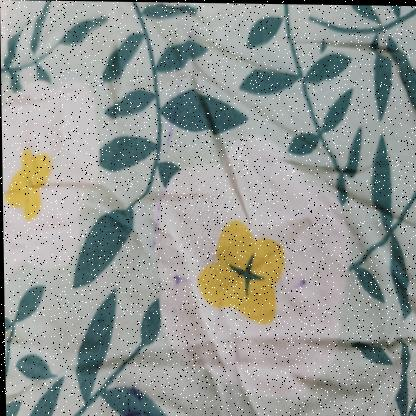spot: (162, 115, 182, 154), (121, 400, 153, 416), (146, 212, 159, 248), (155, 183, 166, 209), (125, 383, 142, 399), (171, 273, 191, 285), (291, 274, 307, 288)
